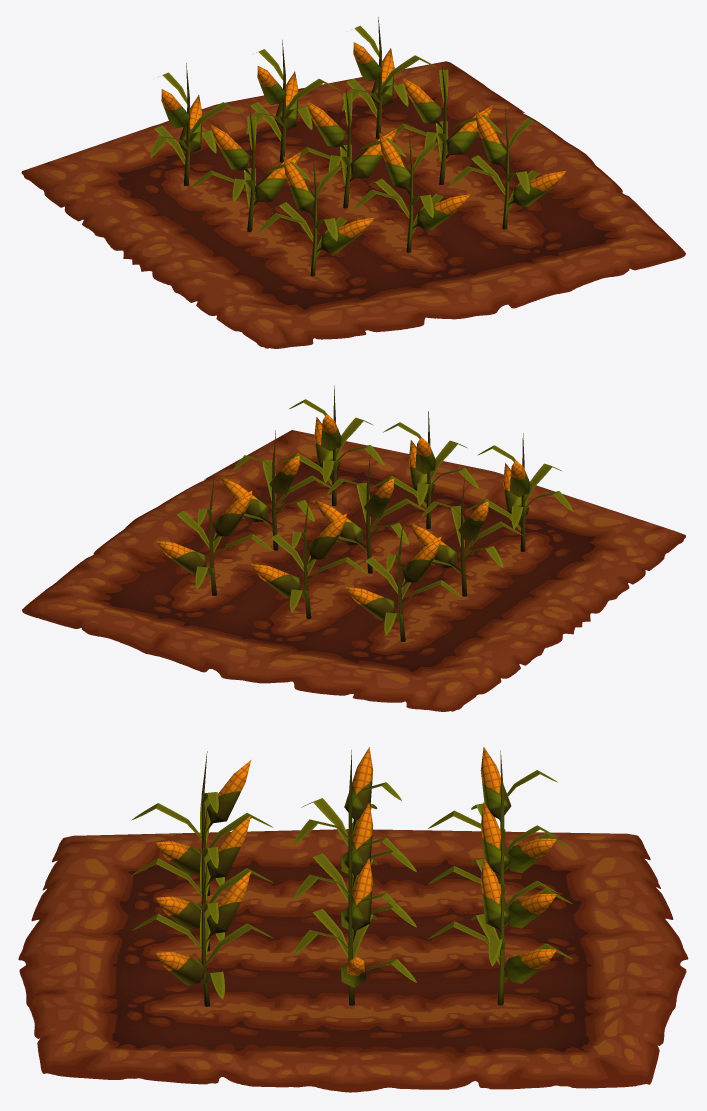
The model's file is Paddy3.FBX.
3 views of the same model, one above another, from view 1: azimuth 30°, elevation 25°; view 2: azimuth 150°, elevation 25°; view 3: azimuth 270°, elevation 25° (orthographic). The views are drawn at different scales.
Parts seen in each view (by area): view 1: Line1572, Paddy3; view 2: Line1572, Paddy3; view 3: Line1572, Paddy3.
Boxes of the visible parts, x1=… form: Line1572: x1=21, y1=61, x2=685, y2=348; Paddy3: x1=144, y1=17, x2=566, y2=276; Line1572: x1=22, y1=430, x2=685, y2=711; Paddy3: x1=155, y1=385, x2=573, y2=641; Line1572: x1=18, y1=829, x2=688, y2=1092; Paddy3: x1=131, y1=747, x2=572, y2=1006.
Bounding box in the file's own units: 274 × 74 × 296.
